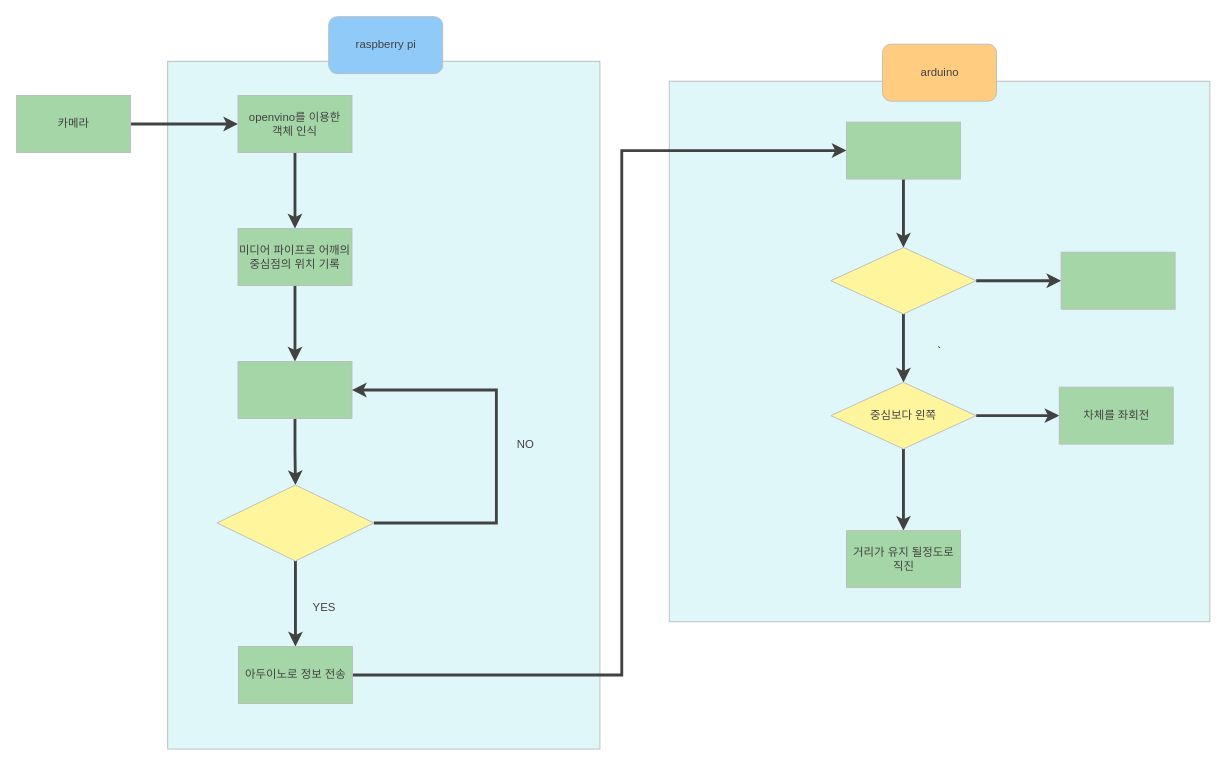
This 1226x766 diagram has some shape labels left out. Here are the shapes that lost their labels. From the top down, the centre of each, then its label:
At (903,150): "정보 분석".
At (903,280): "중심보다 오른쪽".
At (1117,280): "차체를 우회전".
At (294,389): "남긴 사람으로 부터의 거리 측정".
At (295,522): "일정 거리이상인가".
